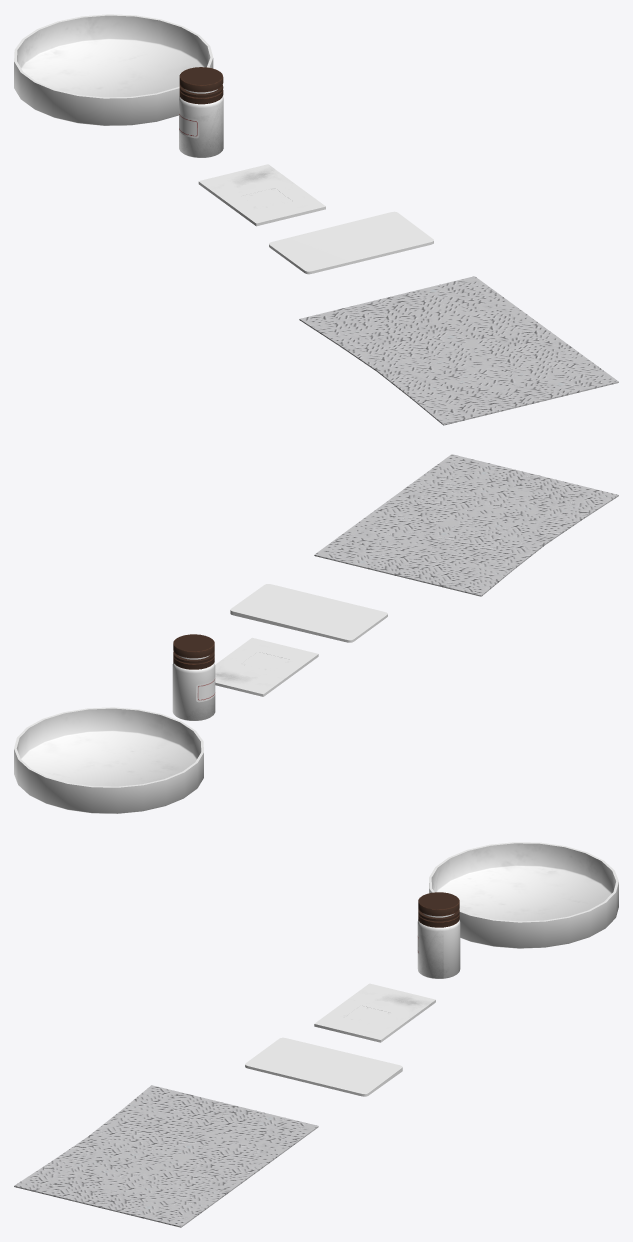
The model's file is prop.FBX.
The picture shows the model from 3 angles, top to bottom: view 1: azimuth 30°, elevation 25°; view 2: azimuth 150°, elevation 25°; view 3: azimuth 330°, elevation 25°; orthographic projection. The views are drawn at different scales.
Parts seen in each view (by area): view 1: Box003, Cylinder002, Box002, Box001, Cylinder001, Object001, Object021; view 2: Box003, Cylinder002, Box002, Box001, Cylinder001, Object001, Object021; view 3: Box003, Cylinder002, Box002, Box001, Cylinder001, Object001, Object021.
Boxes of the visible parts, x1=… form: Box003: x1=299, y1=276, x2=618, y2=425; Cylinder002: x1=14, y1=14, x2=213, y2=125; Box002: x1=269, y1=211, x2=433, y2=274; Box001: x1=198, y1=164, x2=325, y2=226; Cylinder001: x1=179, y1=89, x2=223, y2=157; Object001: x1=179, y1=67, x2=223, y2=92; Object021: x1=241, y1=188, x2=292, y2=209; Box003: x1=314, y1=454, x2=618, y2=596; Cylinder002: x1=14, y1=707, x2=203, y2=813; Box002: x1=230, y1=584, x2=387, y2=642; Box001: x1=215, y1=637, x2=318, y2=696; Cylinder001: x1=172, y1=655, x2=215, y2=720; Object001: x1=173, y1=634, x2=214, y2=658; Object021: x1=241, y1=652, x2=288, y2=672; Box003: x1=14, y1=1085, x2=318, y2=1227; Cylinder002: x1=429, y1=842, x2=618, y2=948; Box002: x1=245, y1=1037, x2=402, y2=1096; Box001: x1=314, y1=983, x2=435, y2=1042; Cylinder001: x1=417, y1=913, x2=460, y2=978; Object001: x1=418, y1=892, x2=459, y2=916; Object021: x1=344, y1=1005, x2=391, y2=1025.
Size of the model in its own units: 0.1642 by 0.0613 by 0.7272.
